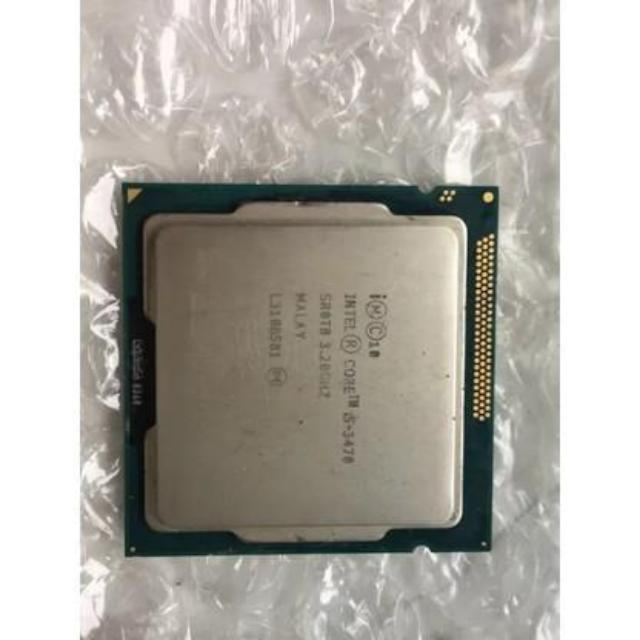CPU: (126, 184, 486, 553)
